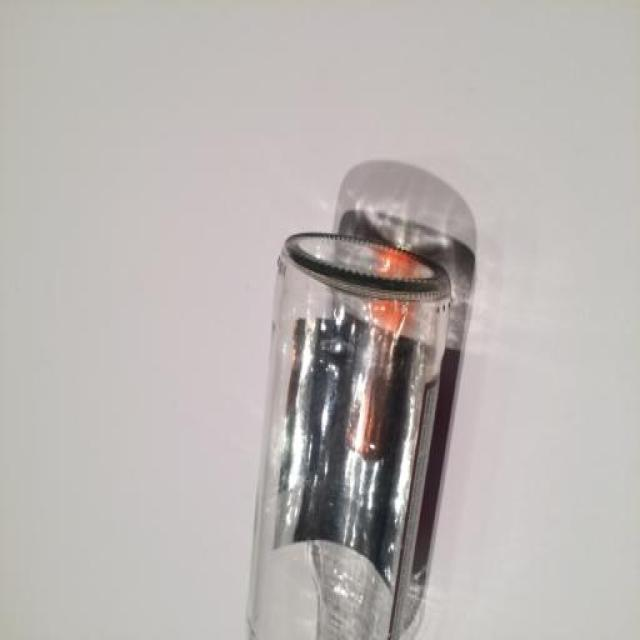Glass: (170, 213, 532, 640)
